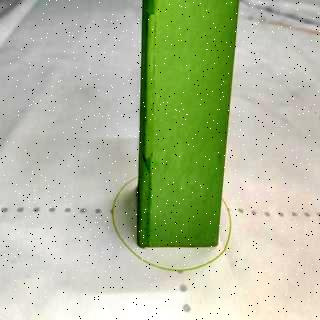greenbox: (140, 1, 239, 248)
